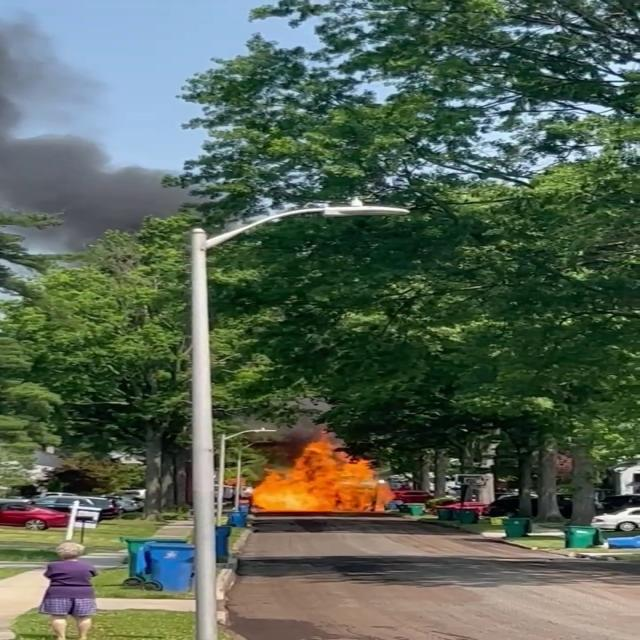Fire: (247, 436, 401, 514)
Smoke: (0, 1, 178, 252)
